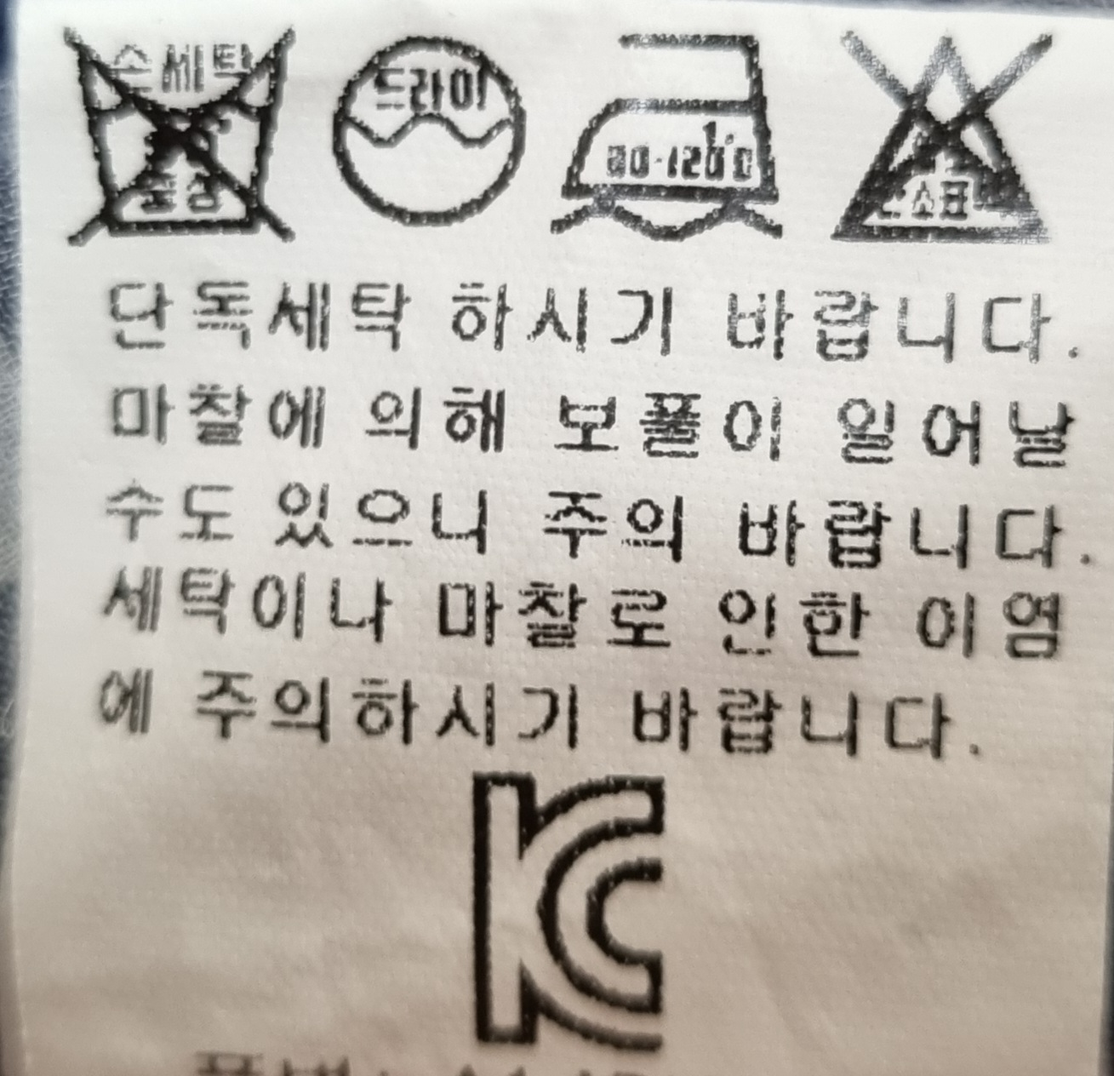KR_dry_clean: (322, 29, 540, 239)
KR_iron_low_temp_with_cloth: (541, 21, 796, 239)
KR_no_bleach: (829, 37, 1042, 251)
